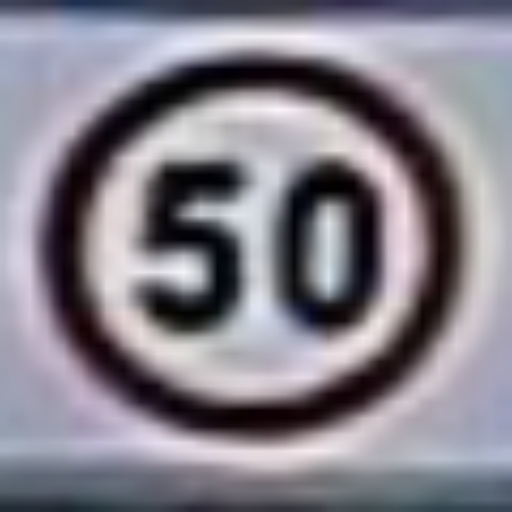Speed limit: (41, 52, 469, 453)
